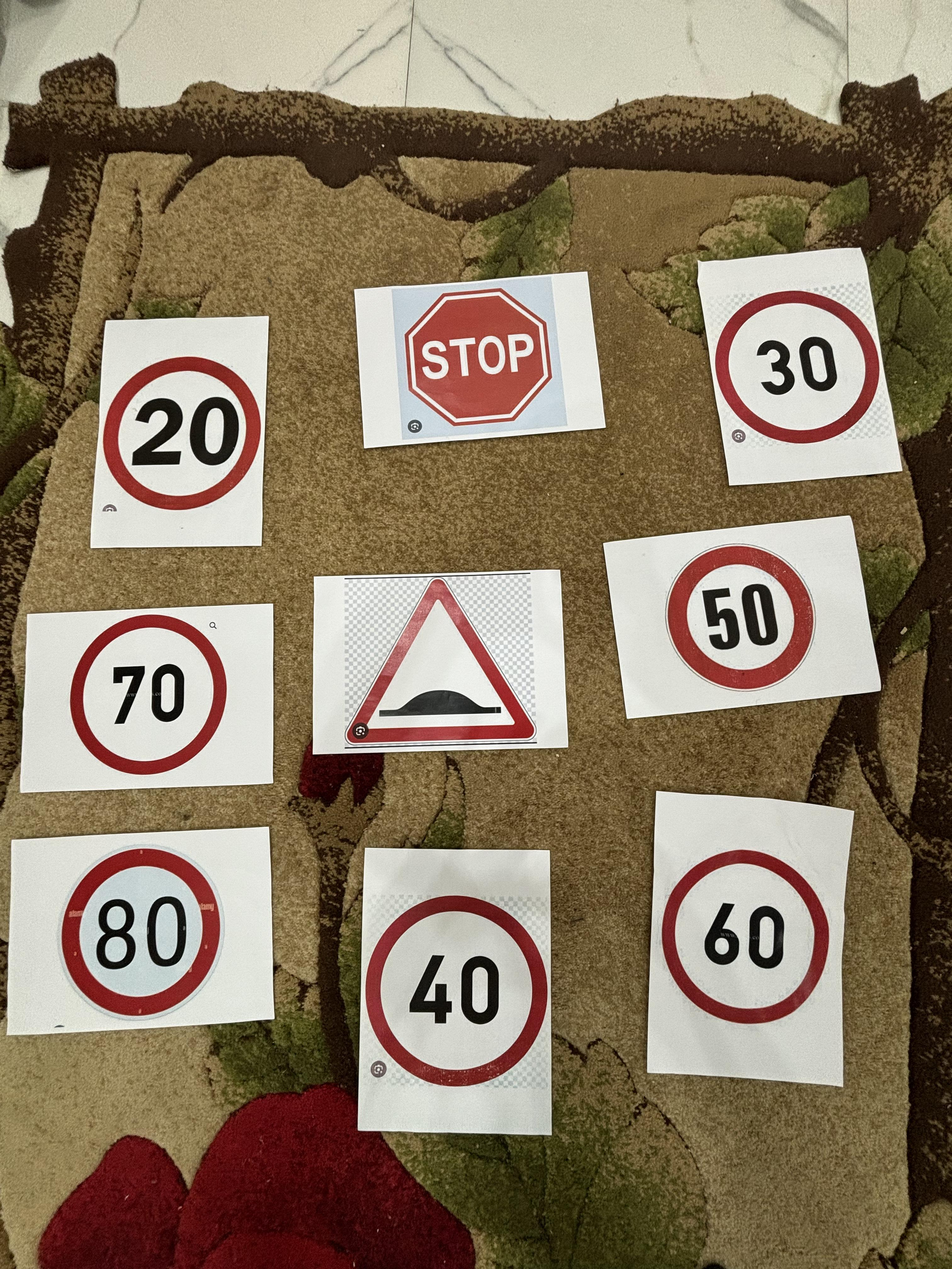20-Speed: (100, 353, 271, 510)
30-speed: (714, 281, 888, 450)
40-Speed: (369, 894, 552, 1087)
50-Speed: (661, 545, 822, 689)
60-Speed: (654, 841, 838, 1024)
70-Speed: (67, 621, 237, 772)
80-Speed: (65, 847, 221, 1014)
Hump: (344, 583, 542, 752)
Stop: (400, 293, 567, 432)
